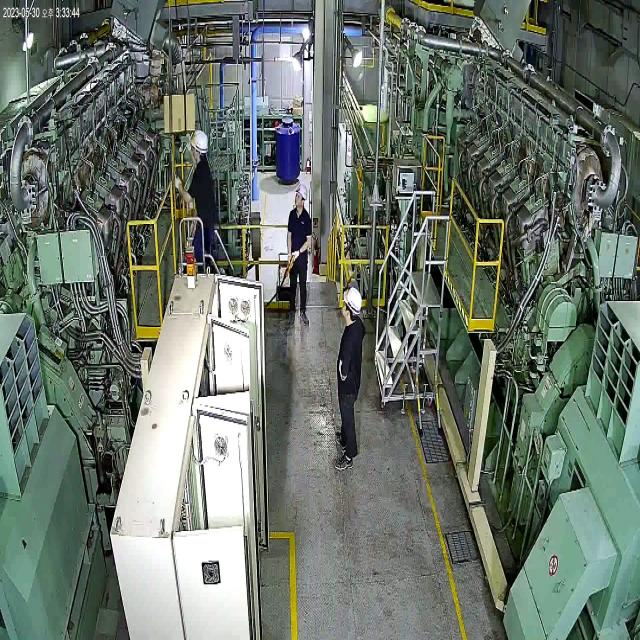Water Tank: (270, 112, 306, 192)
worker: (331, 279, 370, 481), (172, 126, 222, 272), (284, 180, 313, 336)
